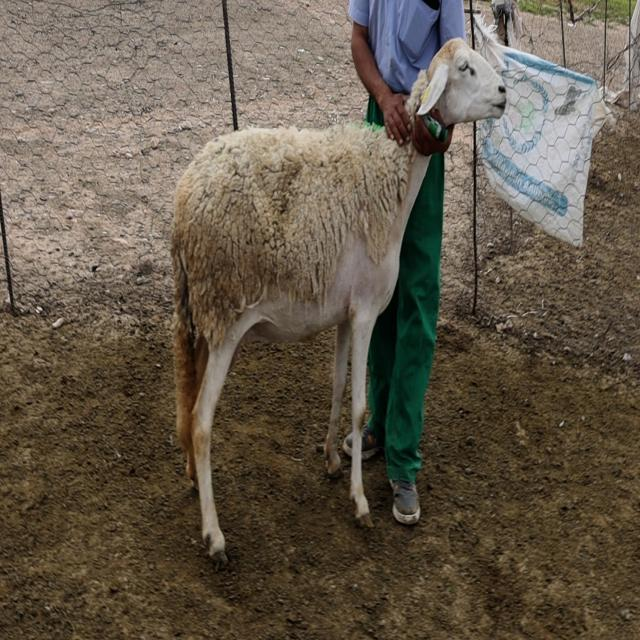Score_2: (171, 38, 505, 561)
